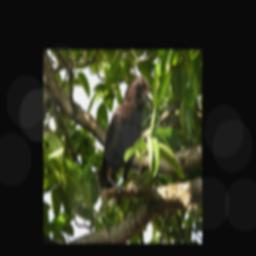Crow: (98, 73, 155, 200)
